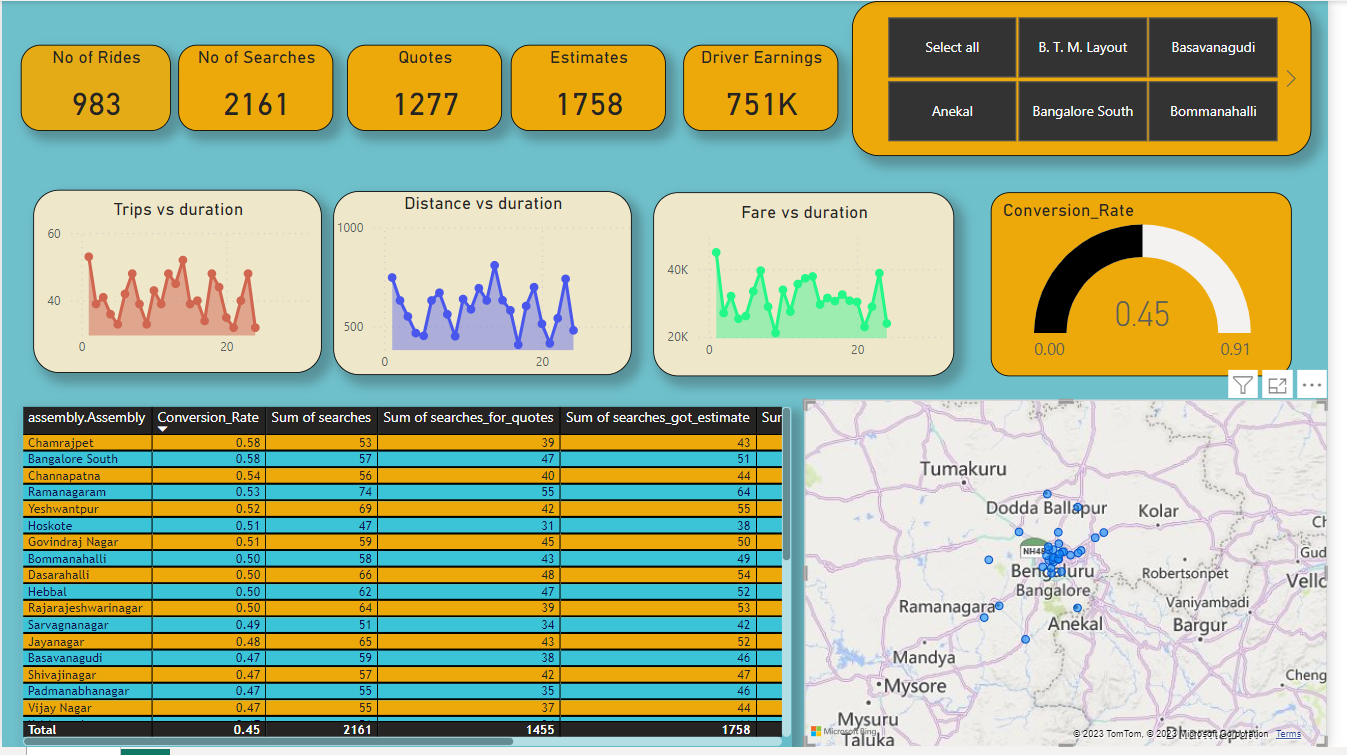

The page's visual inventory and layout, read from the dashboard file:
{"tool":"powerbi","page":{"name":"Page 1","canvas":[1280,720],"ordinal":0},"visuals":[{"type":"card","title":"No of Rides","fields":{"Values":["Sum(trip_details.end_ride)"]},"box":[18.1,42.2,144.7,83.2],"z":0},{"type":"card","title":"No of Searches","fields":{"Values":["Sum(trip_details.searches)"]},"box":[170.1,42.2,149.5,83.2],"z":1000},{"type":"card","title":"Quotes","fields":{"Values":["Sum(trip_details.searches_got_quotes)"]},"box":[332.9,42.2,149.5,83.2],"z":2000},{"type":"card","title":"Estimates","fields":{"Values":["Sum(trip_details.searches_got_estimate)"]},"box":[490.9,42.2,149.5,83.2],"z":3000},{"type":"card","title":"Driver Earnings","fields":{"Values":["Sum(trips.fare)"]},"box":[657.3,42.2,149.5,83.2],"z":4000},{"type":"gauge","fields":{"Y":["Measures Table.Conversion_Rate"]},"box":[954,184.5,290.7,177.3],"z":5000},{"type":"areaChart","title":"Trips vs duration","fields":{"Category":["trips.duration"],"Y":["CountNonNull(trips.tripid)"]},"box":[30.2,182.5,278.6,177],"z":6000},{"type":"areaChart","title":"Distance vs duration","fields":{"Category":["trips.duration"],"Y":["Sum(trips.distance)"]},"box":[319.6,183.3,288.2,177.3],"z":7000},{"type":"areaChart","title":"Fare vs duration","fields":{"Category":["trips.duration"],"Y":["Sum(trips.fare)"]},"box":[628.3,184.5,290.7,177.3],"z":8000},{"type":"tableEx","fields":{"Values":["Merge2.assembly.Assembly","Measures Table.Conversion_Rate","Sum(Merge2.searches)","Sum(Merge2.searches_for_quotes)","Sum(Merge2.searches_got_estimate)","Sum(Merge2.searches_got_quotes)","Sum(Merge2.trips.distance)","Sum(Merge2.trips.fare)"]},"box":[18.1,390.8,744.1,329.2],"z":9000},{"type":"map","fields":{"Category":["Merge2.assembly.Assembly"]},"box":[774.3,384.7,505.3,335.3],"z":10000},{"type":"slicer","fields":{"Values":["Merge2.assembly.Assembly"]},"box":[820.6,0,443.2,149.6],"z":11000}]}

Visuals, with their boxes in screenshot pixels (x1, y1, x2, y2), scaled from the page's 1280x720 canvas onto the 1347x755 screenshot:
"No of Rides" card: [left=19, top=44, right=171, bottom=131]
"No of Searches" card: [left=179, top=44, right=336, bottom=131]
"Quotes" card: [left=350, top=44, right=508, bottom=131]
"Estimates" card: [left=517, top=44, right=674, bottom=131]
"Driver Earnings" card: [left=692, top=44, right=849, bottom=131]
gauge - Measures Table.Conversion_Rate: [left=1004, top=193, right=1310, bottom=379]
"Trips vs duration" areaChart: [left=32, top=191, right=325, bottom=377]
"Distance vs duration" areaChart: [left=336, top=192, right=640, bottom=378]
"Fare vs duration" areaChart: [left=661, top=193, right=967, bottom=379]
tableEx - Merge2.assembly.Assembly x Measures Table.Conversion_Rate: [left=19, top=410, right=802, bottom=754]
map - Merge2.assembly.Assembly: [left=815, top=403, right=1346, bottom=754]
slicer - Merge2.assembly.Assembly: [left=864, top=0, right=1330, bottom=157]
